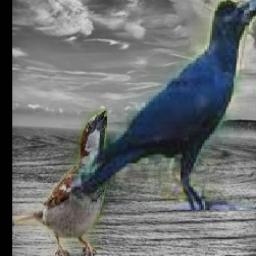Crow: (72, 0, 256, 210)
Sparrow: (15, 110, 108, 256)
